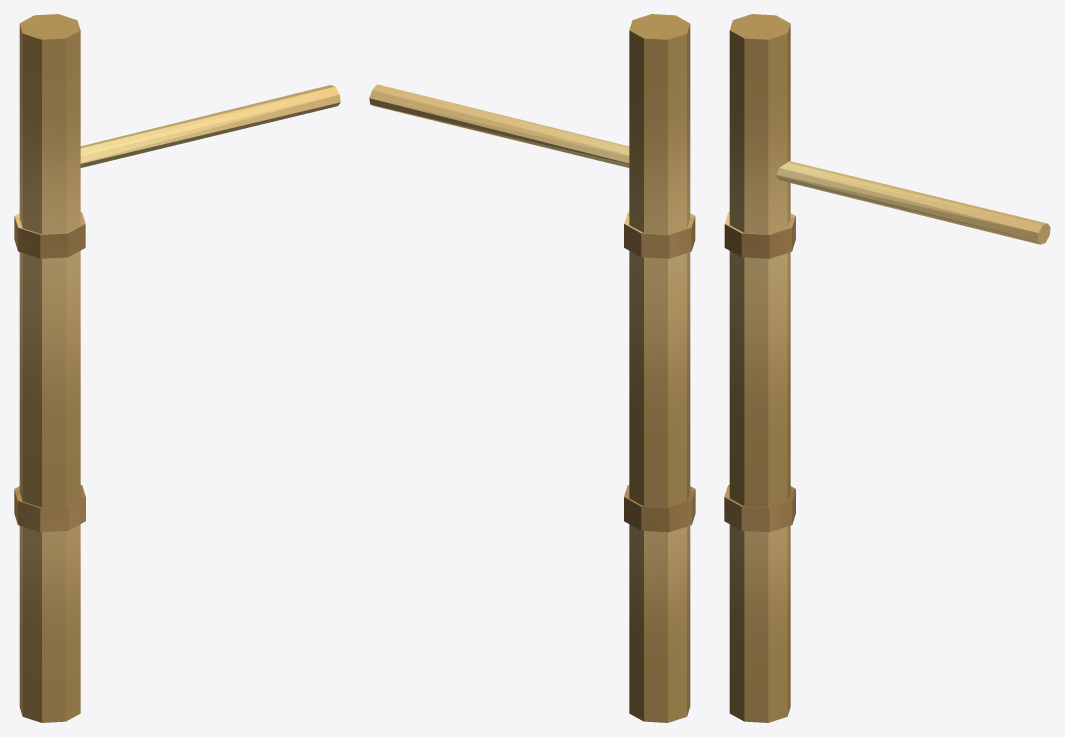
The model's file is MarketStall_FlagPole.fbx.
3 views of the same model, side by side, from view 1: azimuth 30°, elevation 25°; view 2: azimuth 150°, elevation 25°; view 3: azimuth 330°, elevation 25° (orthographic).
Parts seen in each view (by area): view 1: MarketStall_FlagPole; view 2: MarketStall_FlagPole; view 3: MarketStall_FlagPole.
Boxes of the visible parts, x1,y1,x2,y2 form: MarketStall_FlagPole: (14,14,340,722); MarketStall_FlagPole: (369,14,695,722); MarketStall_FlagPole: (724,14,1050,722).
Size of the model in its own units: 1.16 by 2.4 by 0.2364.
1 material, 1 textured.
